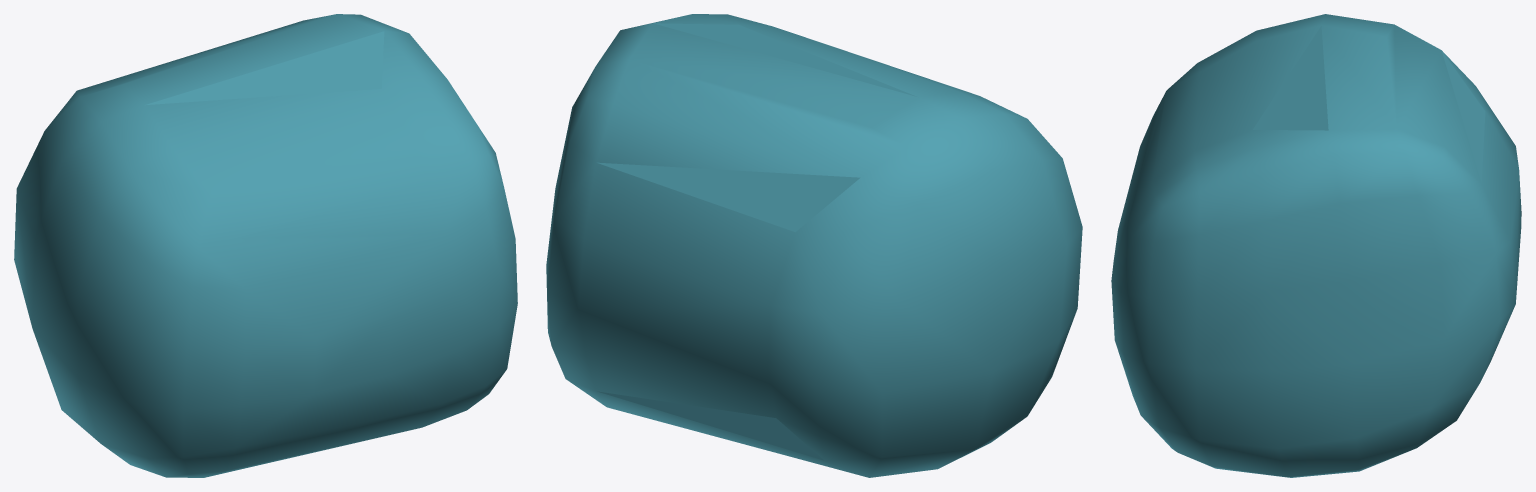
File: COL_Alpha_Surface_041_convex_hull.dae
The picture shows the model from 3 angles, left to right: view 1: azimuth 30°, elevation 25°; view 2: azimuth 150°, elevation 25°; view 3: azimuth 270°, elevation 25°; orthographic projection. The views are drawn at different scales.
Parts seen in each view (by area): view 1: COL_Alpha_Surface_041_convex_hull; view 2: COL_Alpha_Surface_041_convex_hull; view 3: COL_Alpha_Surface_041_convex_hull.
Part boxes in pixels (box(x1,y1,x2,y2)): COL_Alpha_Surface_041_convex_hull: box(14, 14, 517, 477); COL_Alpha_Surface_041_convex_hull: box(546, 14, 1082, 477); COL_Alpha_Surface_041_convex_hull: box(1111, 14, 1521, 477).
Size of the model in its own units: 2.6 by 2.27 by 2.11.
